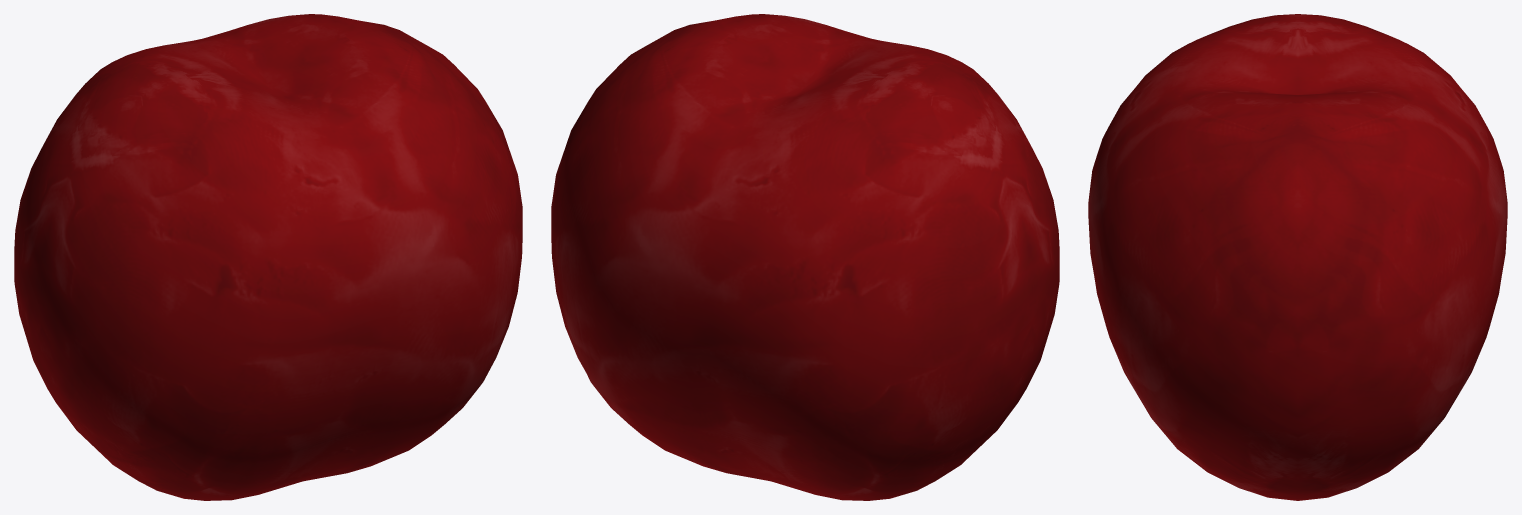
The model's file is Cerise.FBX.
3 renders of one model, left to right at view 1: azimuth 30°, elevation 25°; view 2: azimuth 150°, elevation 25°; view 3: azimuth 270°, elevation 25°, orthographic. The views are drawn at different scales.
Parts seen in each view (by area): view 1: Cerise_Positive_claire001; view 2: Cerise_Positive_claire001; view 3: Cerise_Positive_claire001.
Boxes of the visible parts, x1,y1,x2,y2 form: Cerise_Positive_claire001: (14, 14, 522, 500); Cerise_Positive_claire001: (551, 14, 1059, 500); Cerise_Positive_claire001: (1088, 14, 1507, 500).
Bounding box in the file's own units: 1.02 × 0.9001 × 0.8591.
